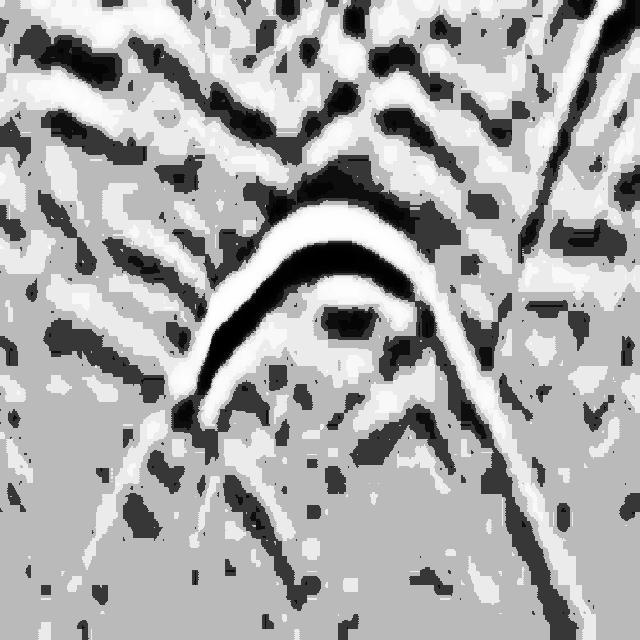hyperbola: (178, 145, 510, 491)
